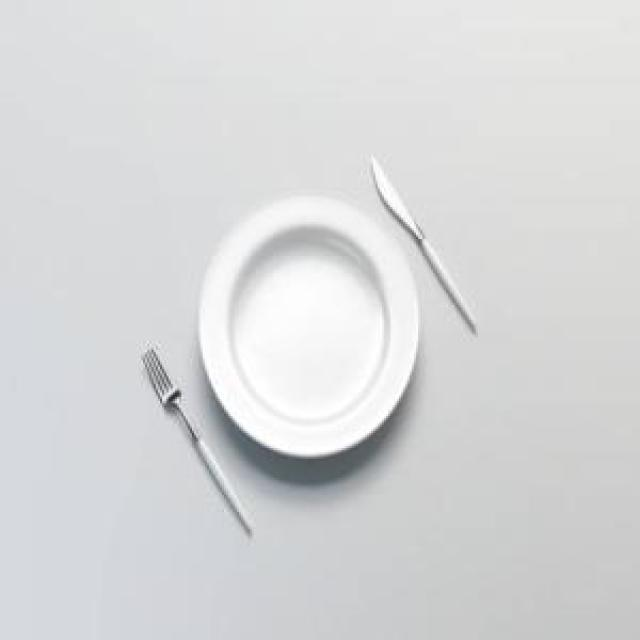knife: (365, 151, 481, 334)
